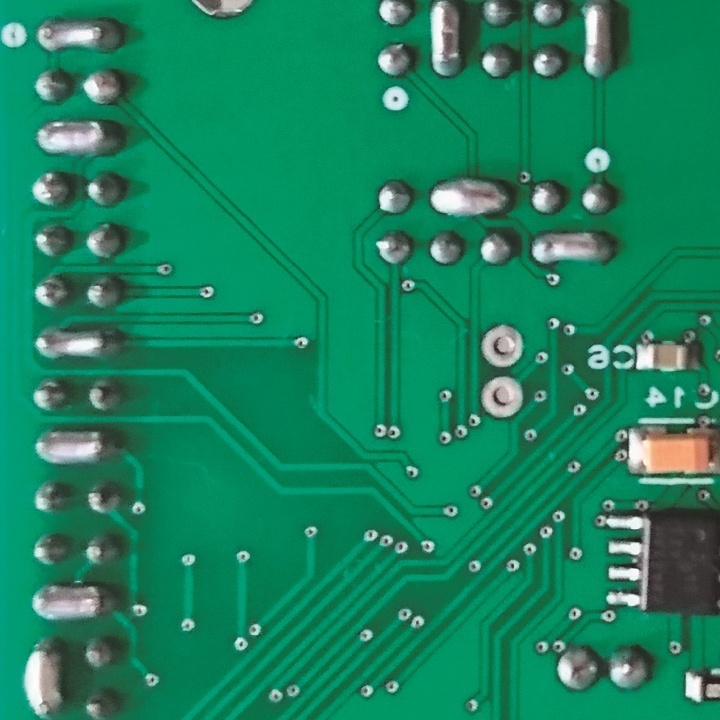F: (477, 323, 526, 370), (480, 375, 525, 419)
P: (19, 637, 69, 719), (31, 117, 126, 160), (427, 171, 511, 218), (30, 428, 122, 469), (30, 323, 122, 363), (529, 226, 616, 268), (33, 15, 126, 54), (30, 581, 111, 623), (579, 1, 617, 81), (429, 1, 467, 81)
